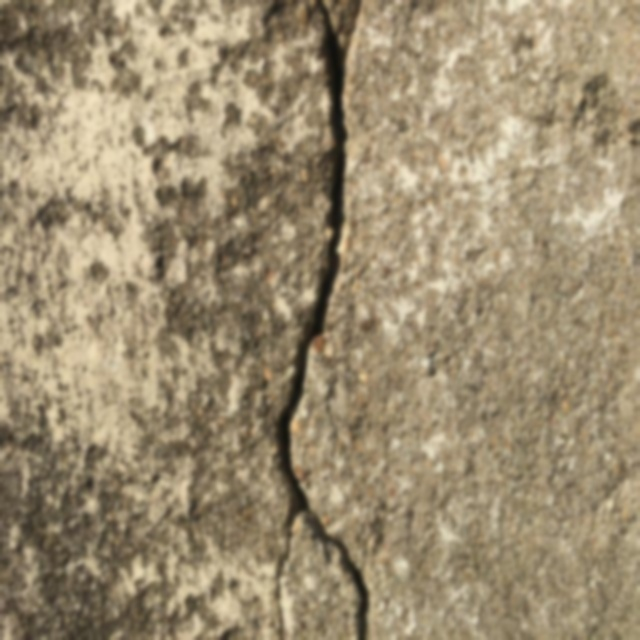SurfaceCrack: (227, 0, 417, 639)
